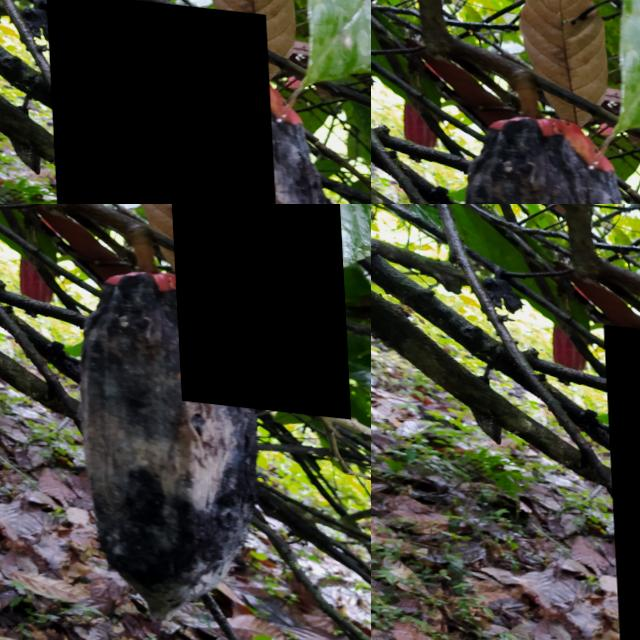Sana: (44, 0, 278, 204), (167, 204, 347, 407), (488, 0, 570, 28)
